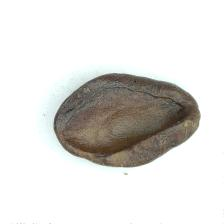NG: (59, 84, 189, 160)
